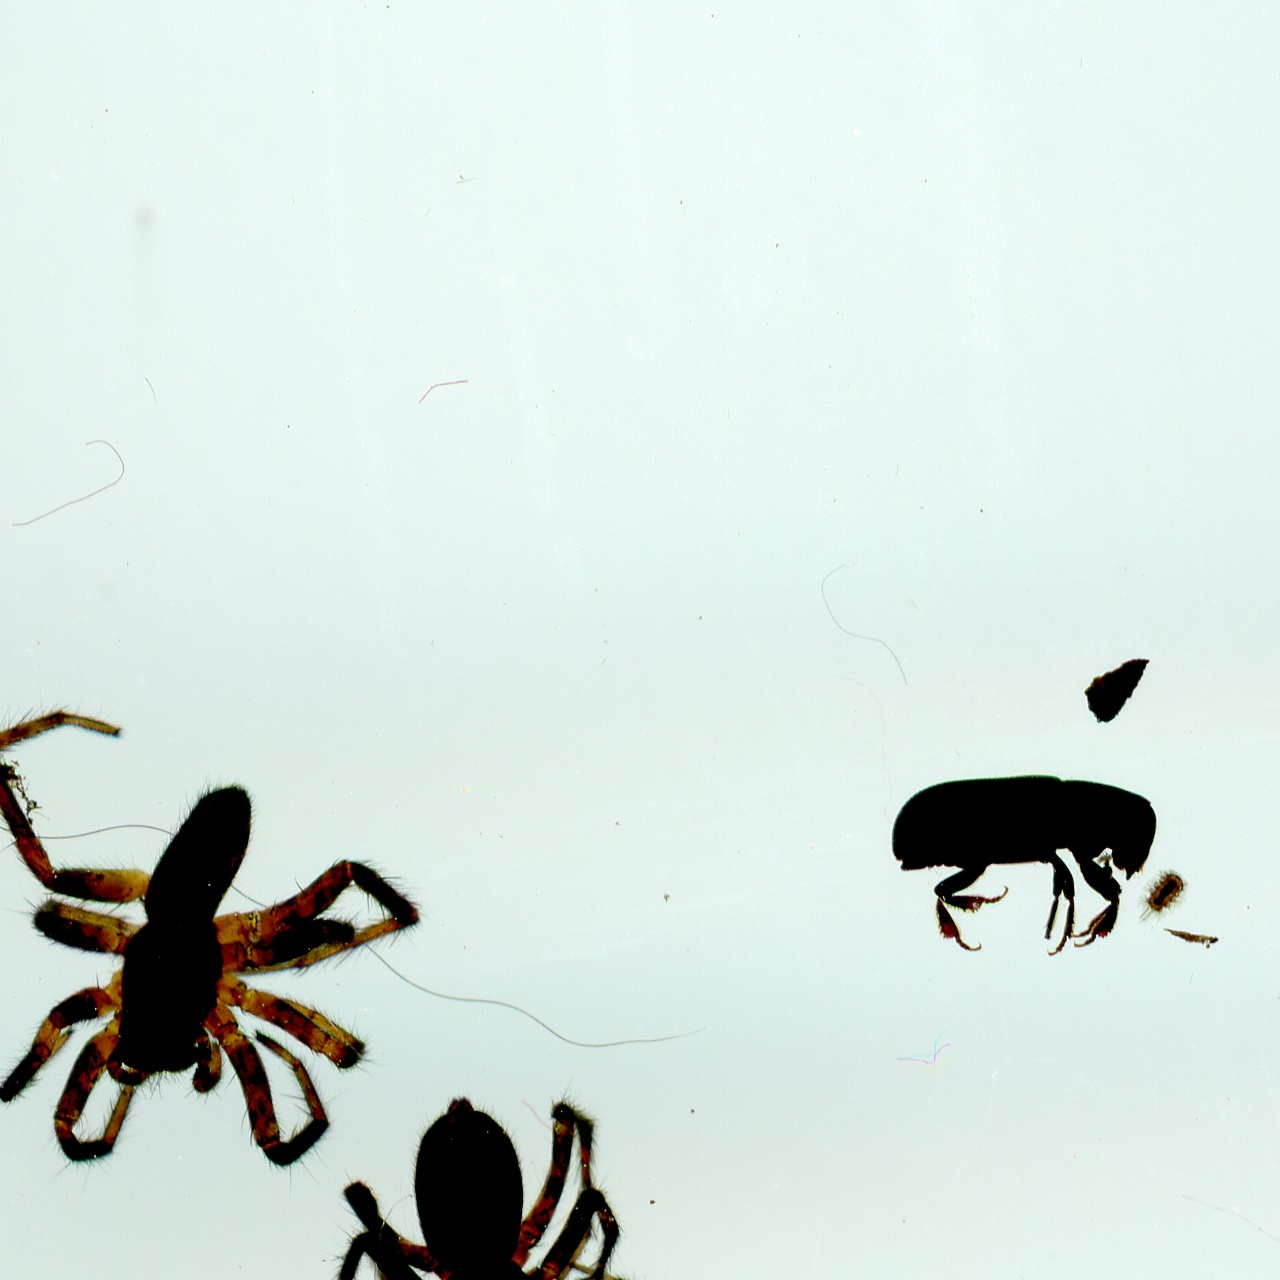arthropod: (0, 695, 415, 1162), (298, 1095, 692, 1280), (879, 767, 1163, 952), (1141, 869, 1185, 928)
